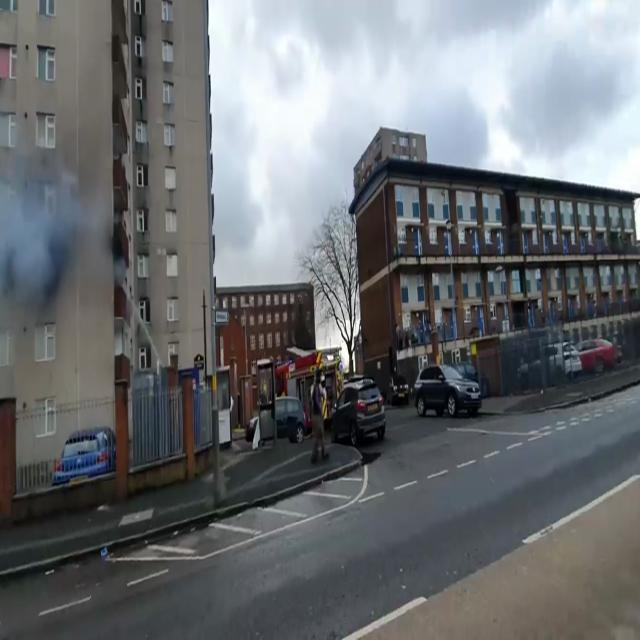Smoke: (0, 142, 120, 322)
